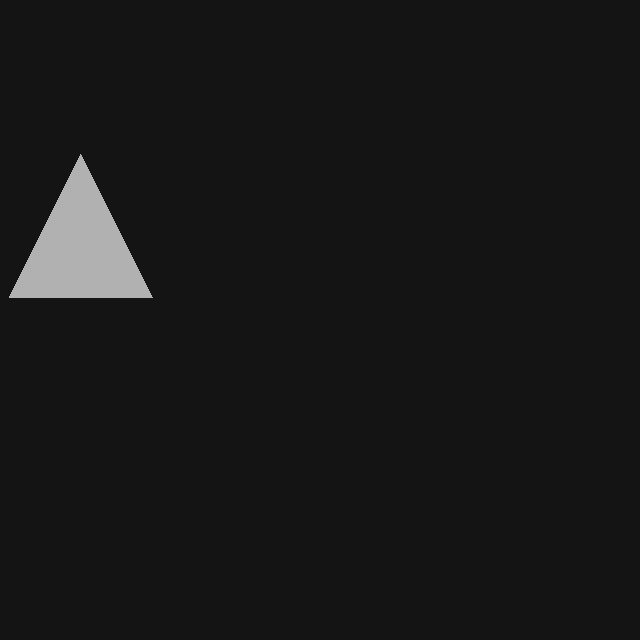triangle: (9, 154, 152, 297)
